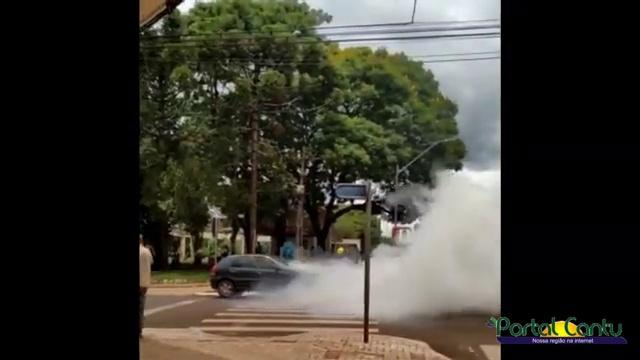smoke: (421, 202, 497, 307), (293, 266, 359, 314)
